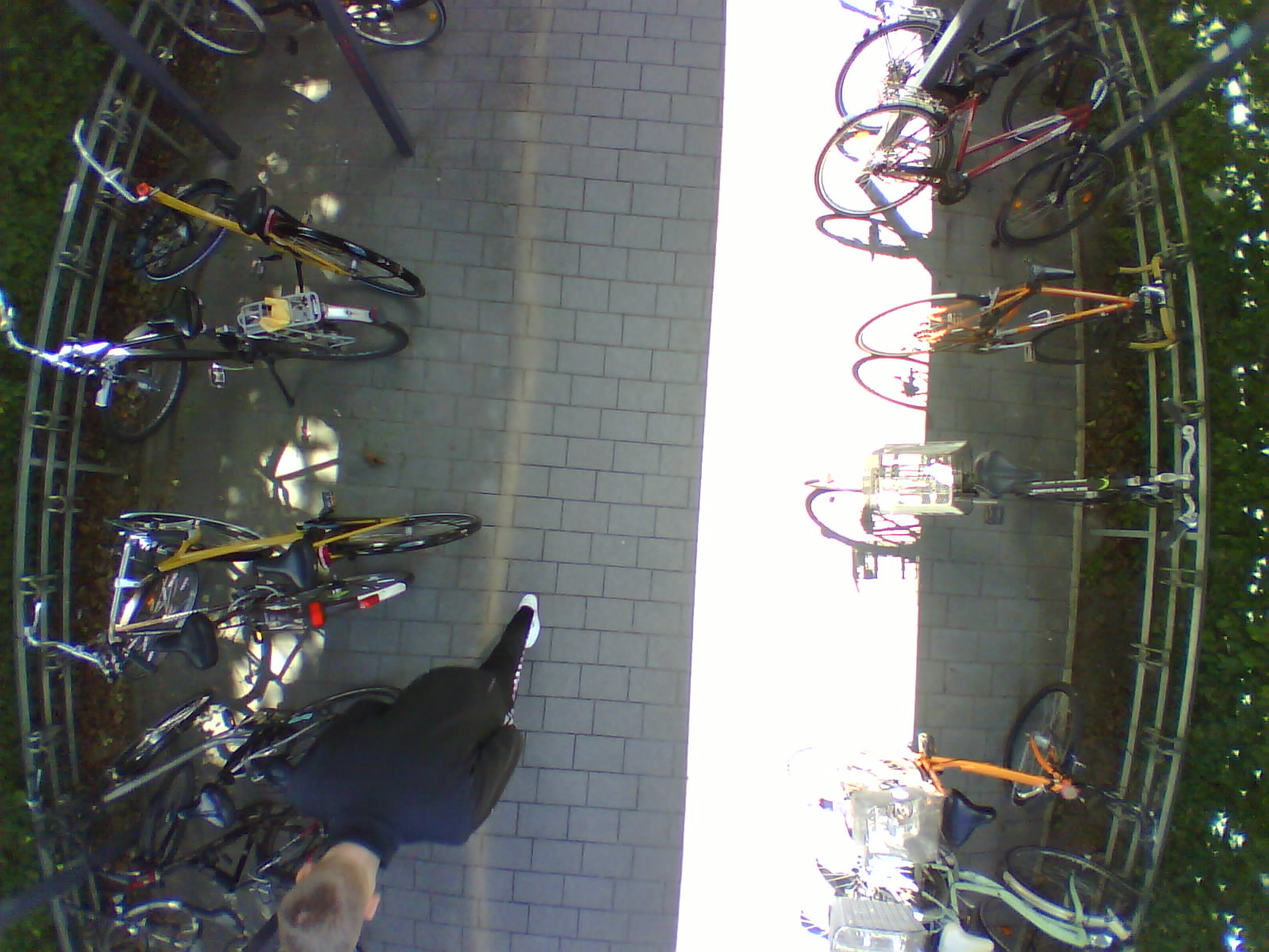bicylce: (805, 51, 1128, 240), (38, 507, 484, 635), (788, 680, 1146, 831), (59, 677, 387, 834), (84, 288, 416, 438), (806, 415, 1201, 539), (118, 164, 413, 305), (10, 562, 404, 662), (762, 853, 1171, 949), (815, 0, 1139, 121), (852, 246, 1177, 364), (183, 903, 248, 939)
saddle: (150, 607, 222, 671), (162, 783, 242, 835), (970, 444, 1039, 502), (252, 538, 316, 600), (143, 283, 207, 344), (206, 179, 268, 237), (939, 788, 998, 847), (957, 44, 1019, 92), (1018, 251, 1080, 294), (924, 918, 1001, 952)
